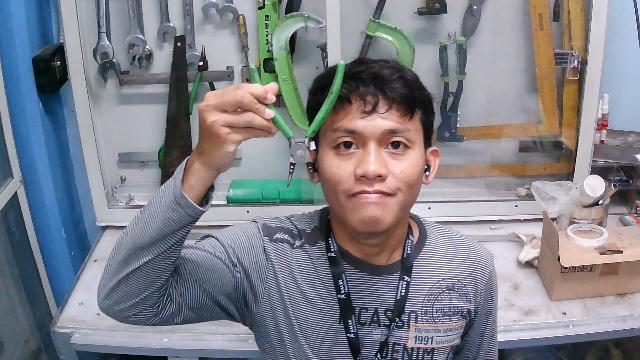tang_cucut_lancip_1: (240, 51, 356, 190)
